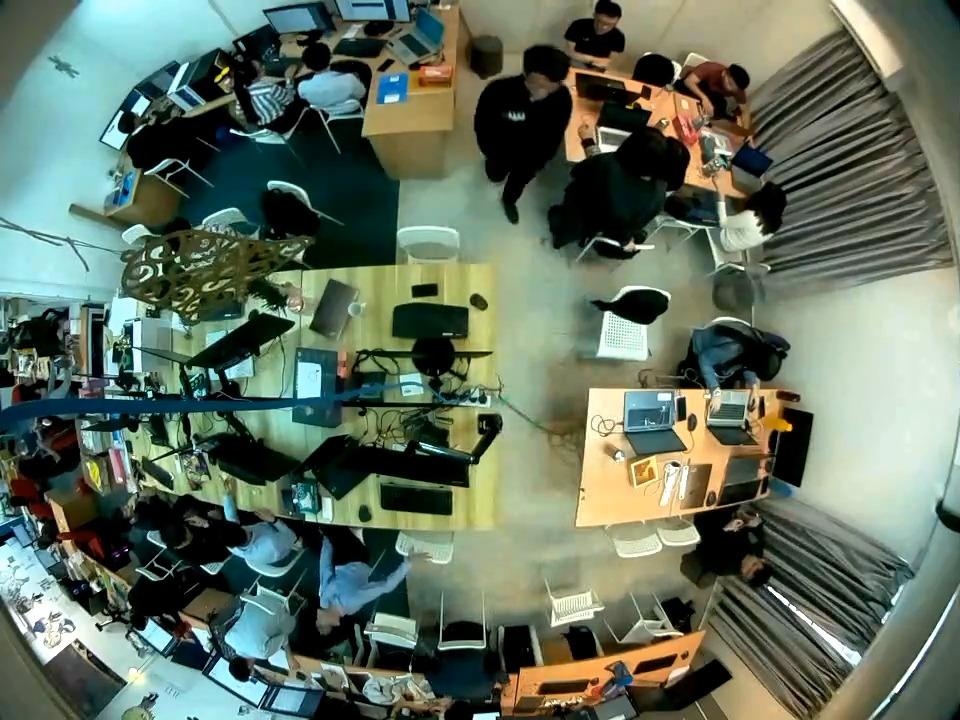name-tag: (503, 108, 527, 124)
